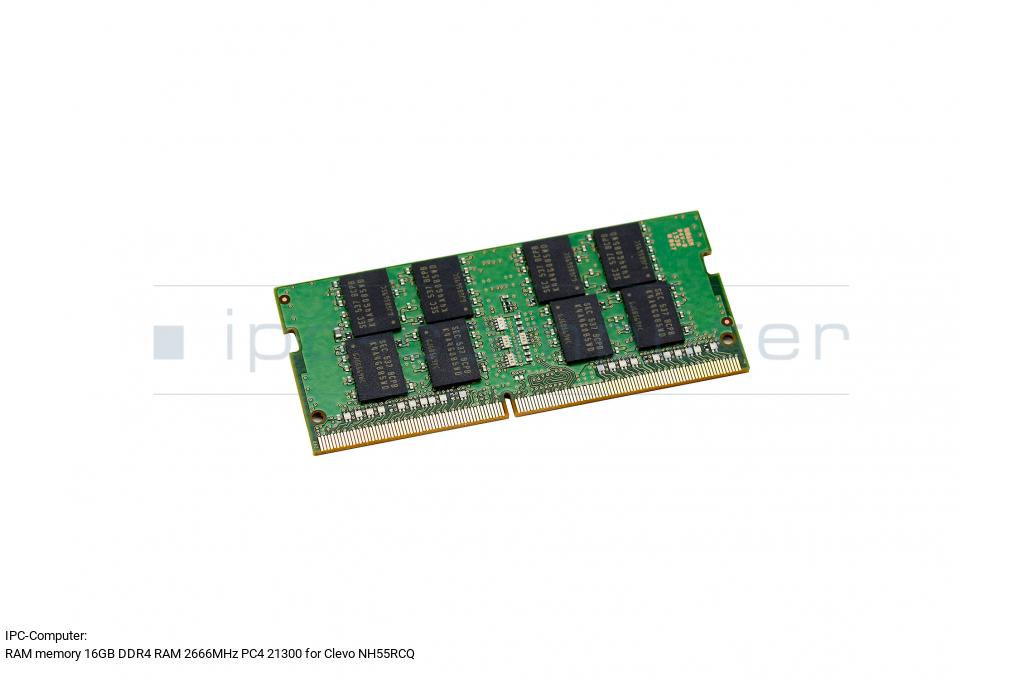Notebook RAM: (250, 218, 806, 450)
